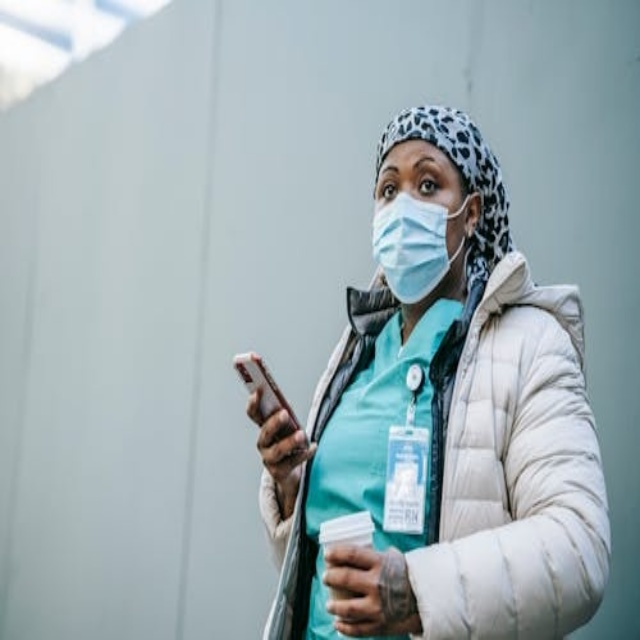Mascara: (372, 189, 466, 301)
Sin_gafas: (375, 156, 453, 192)
Sin_guantes: (322, 540, 416, 638), (241, 382, 319, 480)
